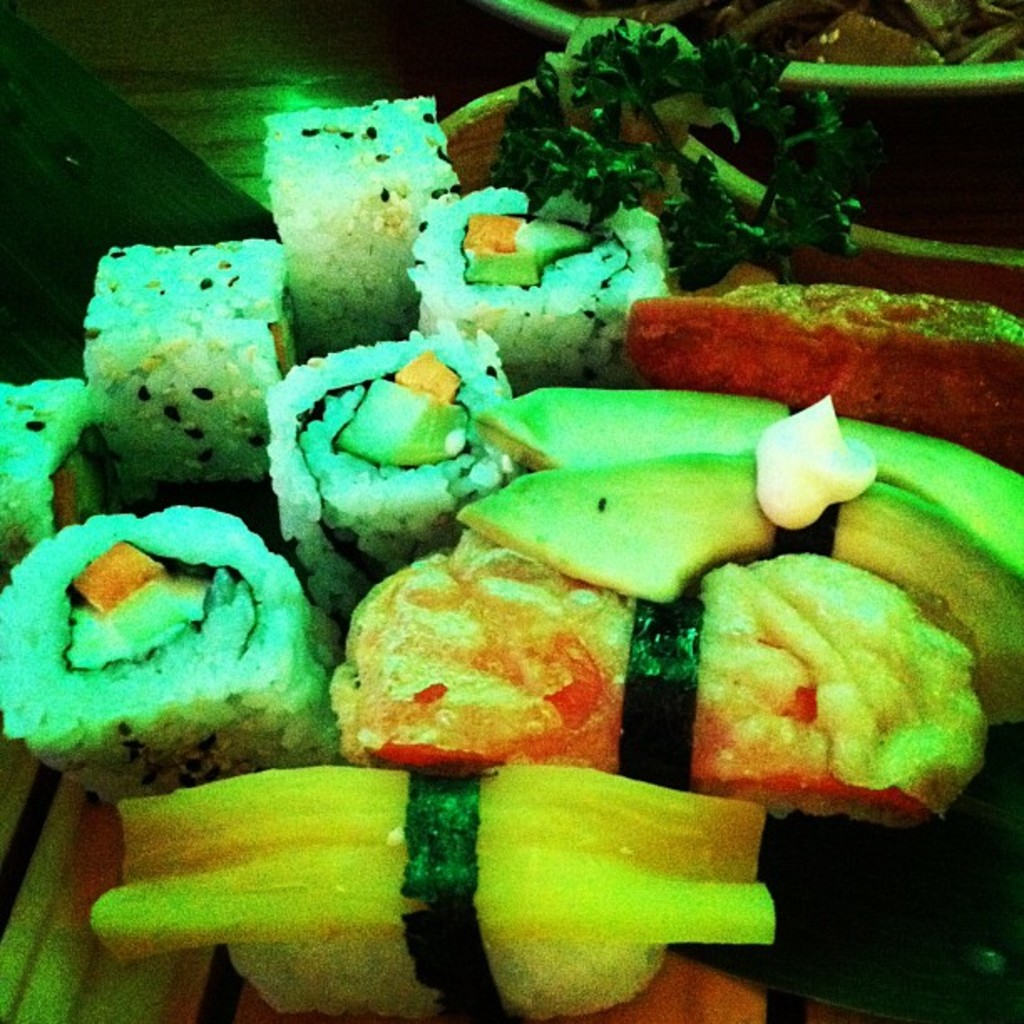sushi: (0, 94, 1022, 1022), (0, 514, 346, 818)
